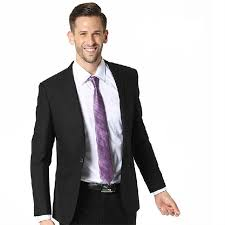F_M_suit jacket: (28, 55, 168, 219)
F_belt: (75, 176, 137, 199)
F_tie: (85, 72, 121, 189)
